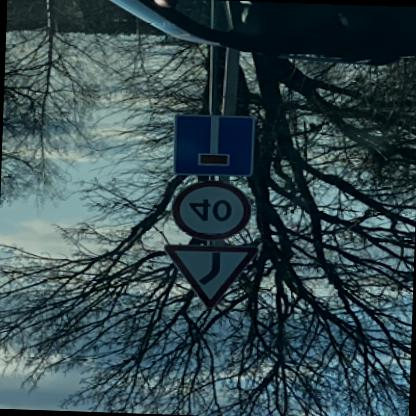speedlimit: (170, 180, 250, 242)
